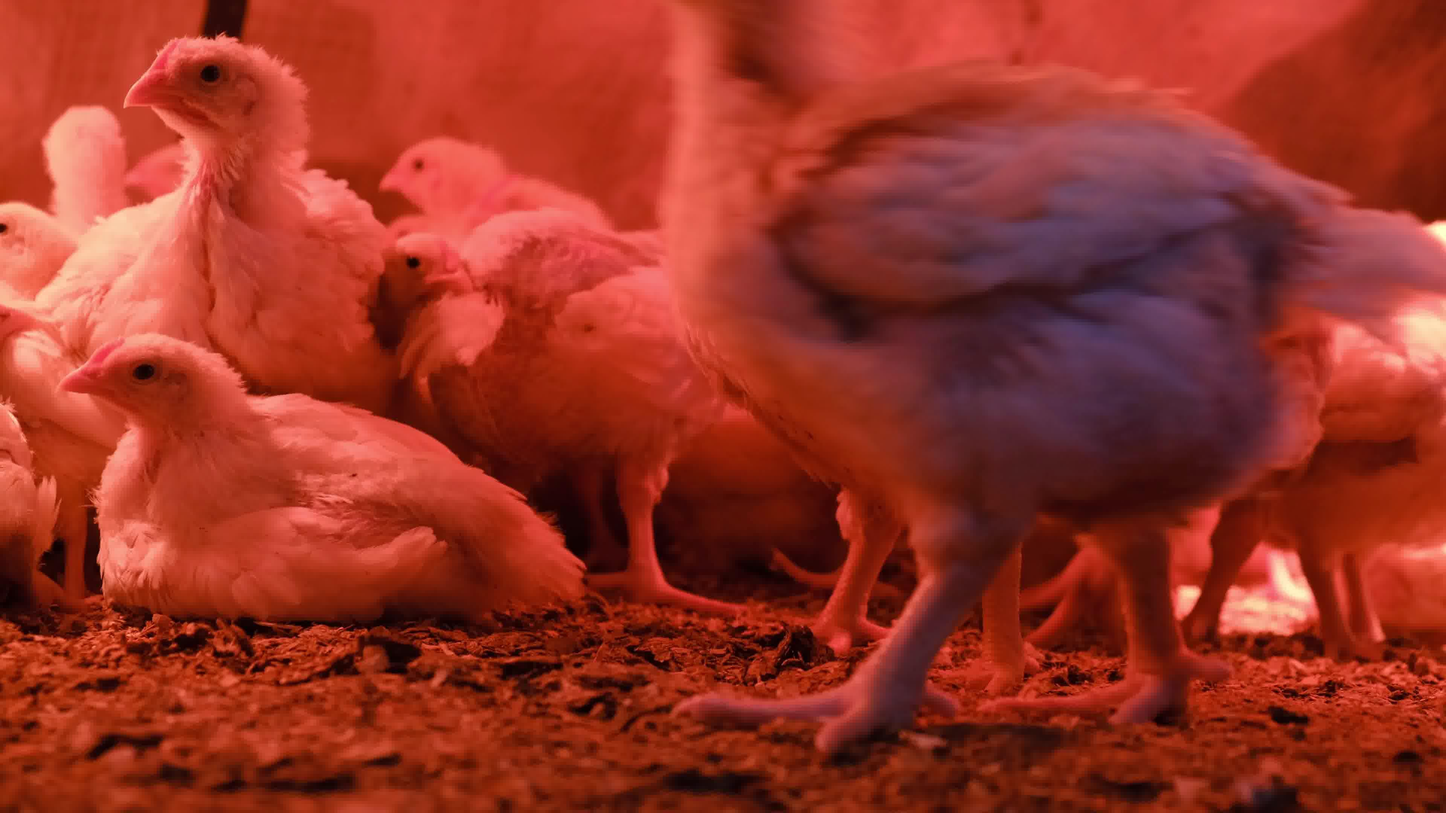AbNormal: (63, 332, 582, 623), (0, 294, 49, 613)
Normal: (659, 0, 1446, 757), (378, 137, 763, 621), (34, 38, 384, 434), (1257, 216, 1444, 665), (0, 202, 128, 617), (369, 226, 466, 393), (43, 110, 132, 238)
